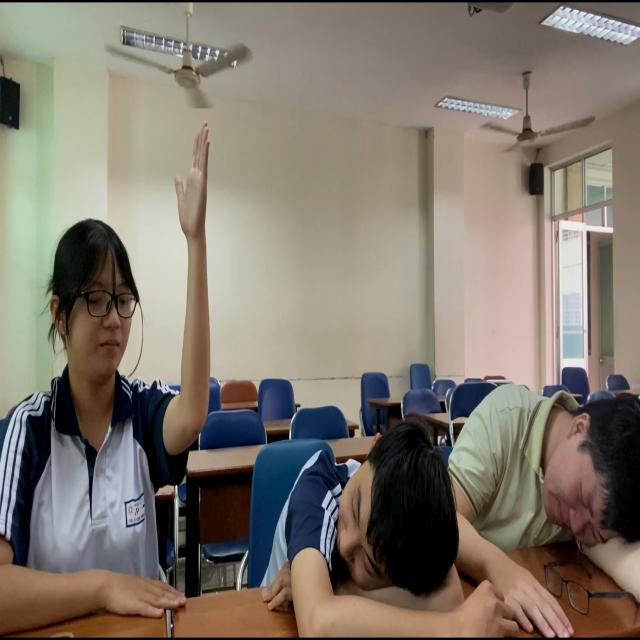raise_hand: (1, 112, 217, 640)
sleep: (257, 409, 534, 640), (450, 367, 640, 640)
